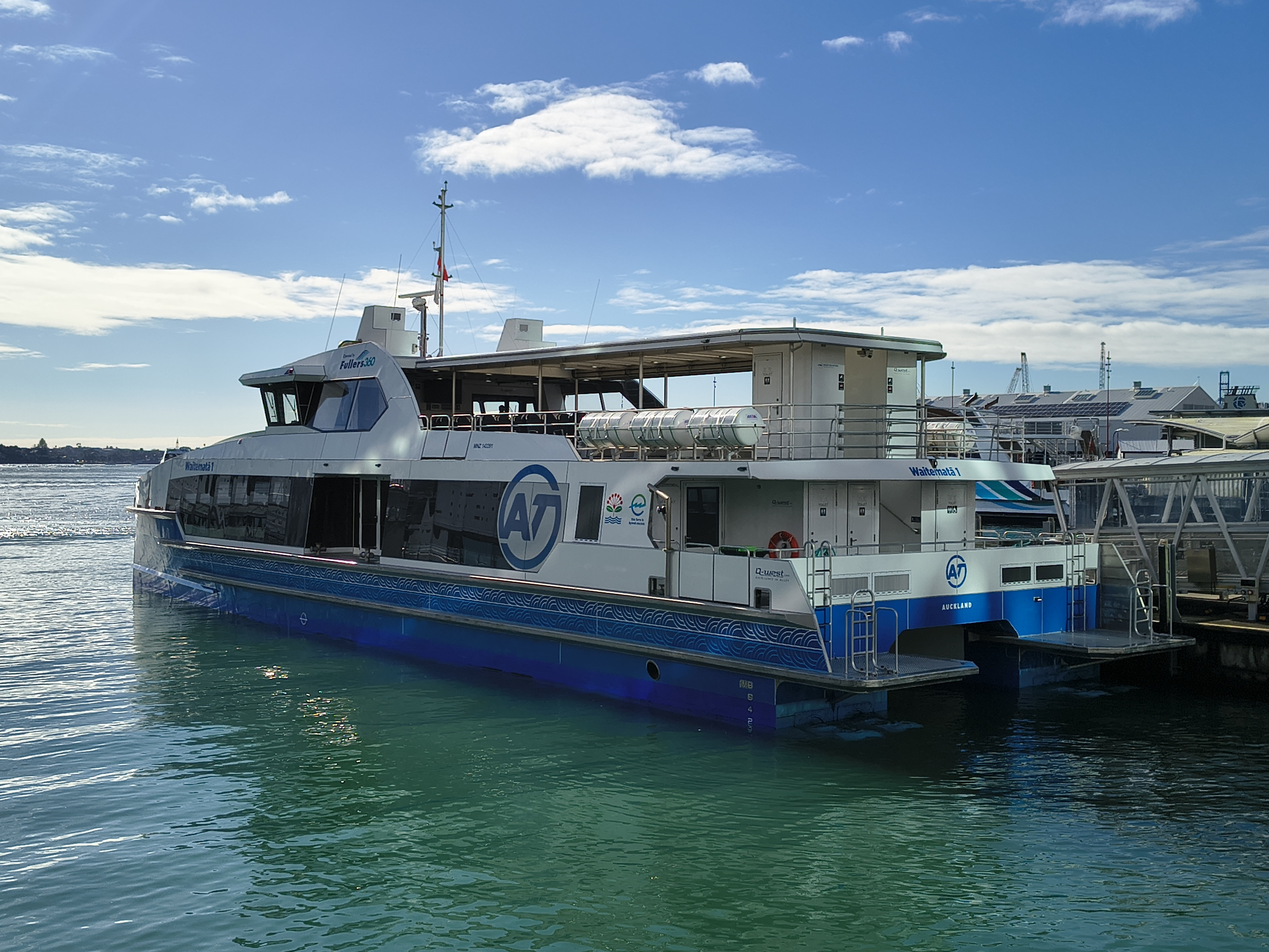ferry: (136, 289, 1191, 741)
